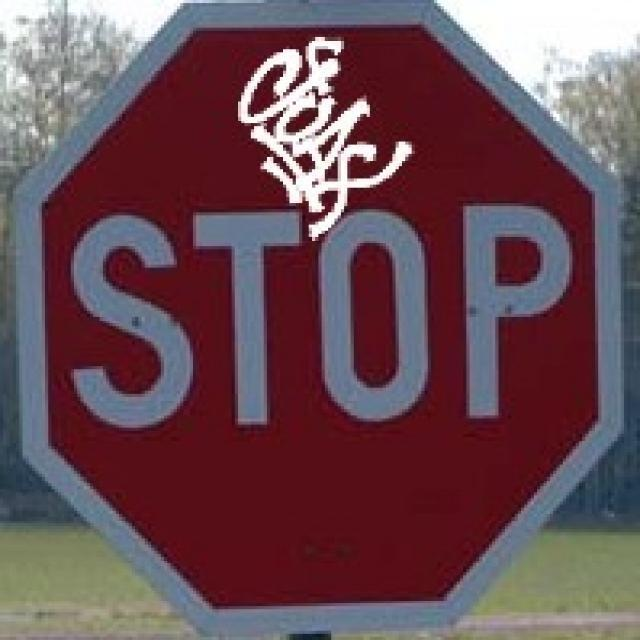Stop-Sign: (54, 38, 584, 594)
